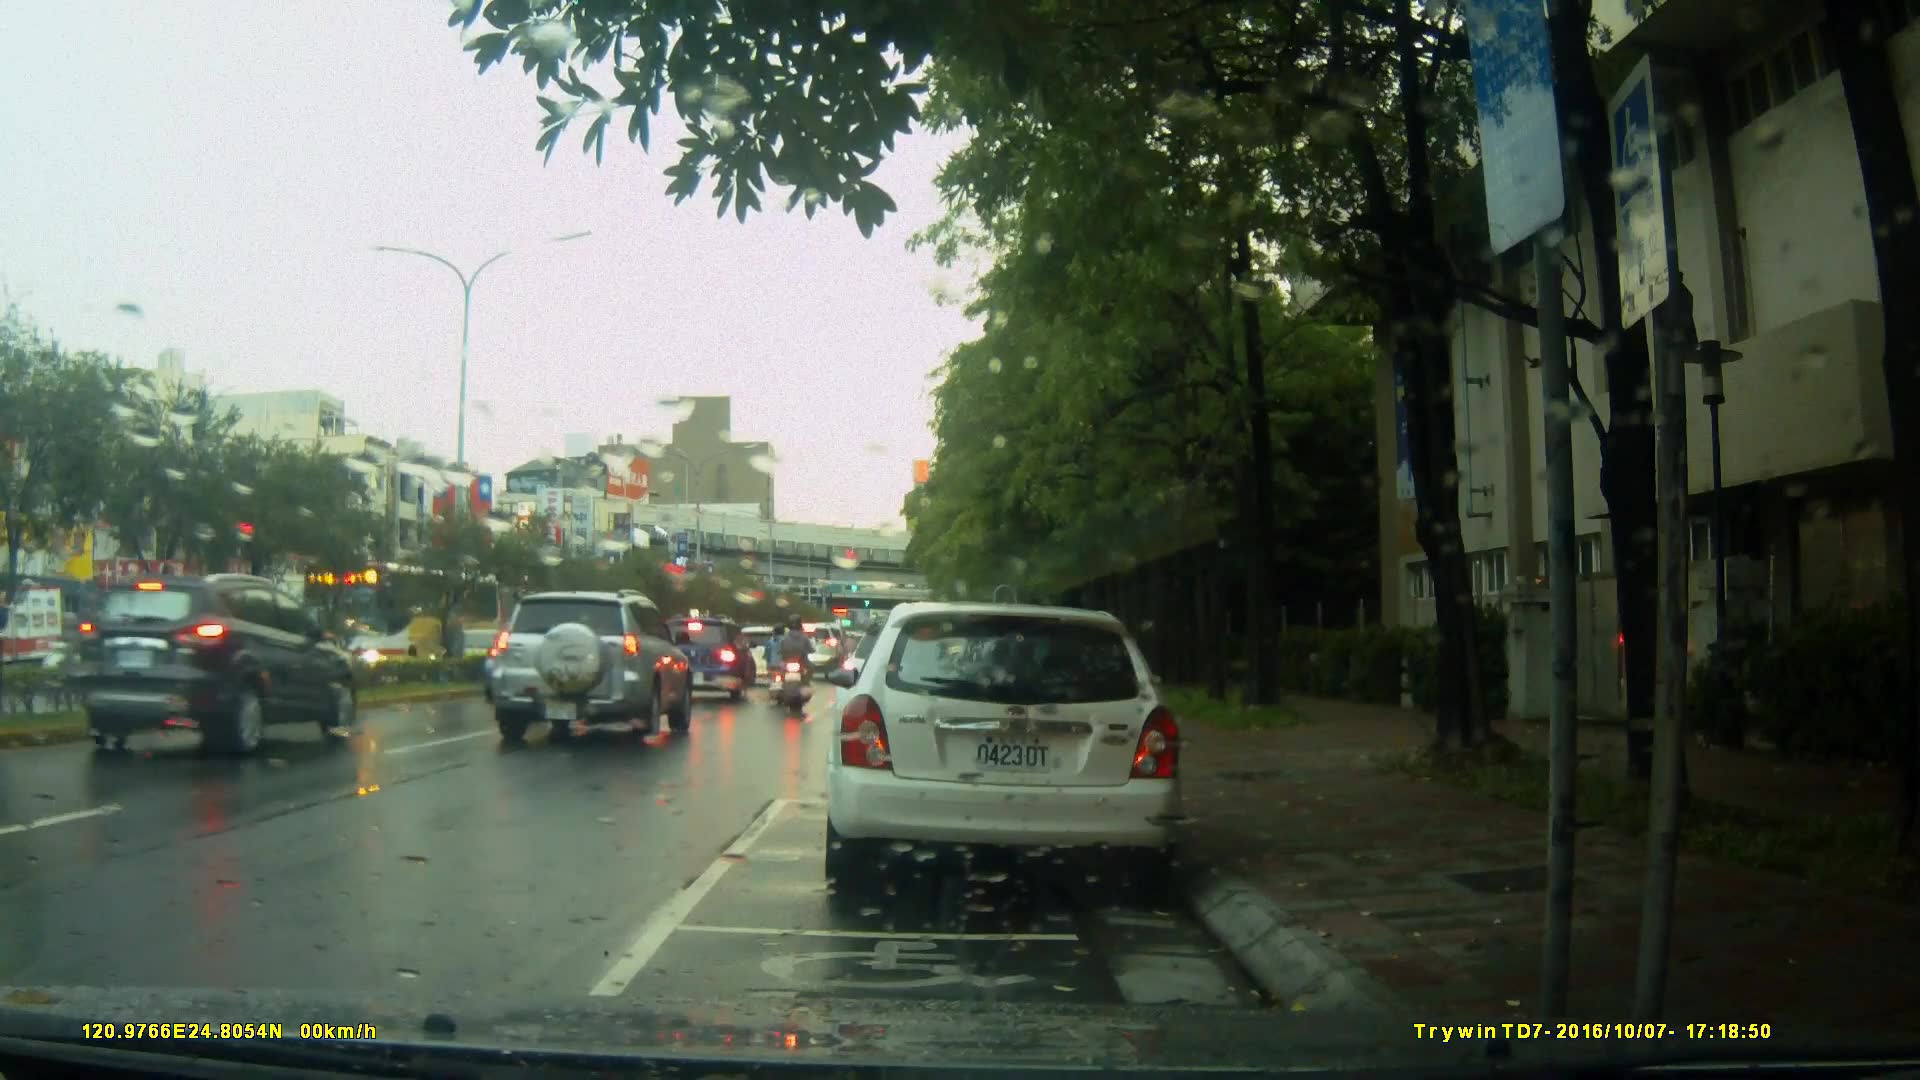rider: (777, 610, 818, 719), (755, 621, 791, 697)
vehicle: (820, 602, 1188, 898), (68, 572, 360, 762), (492, 589, 698, 742), (649, 613, 760, 704)
